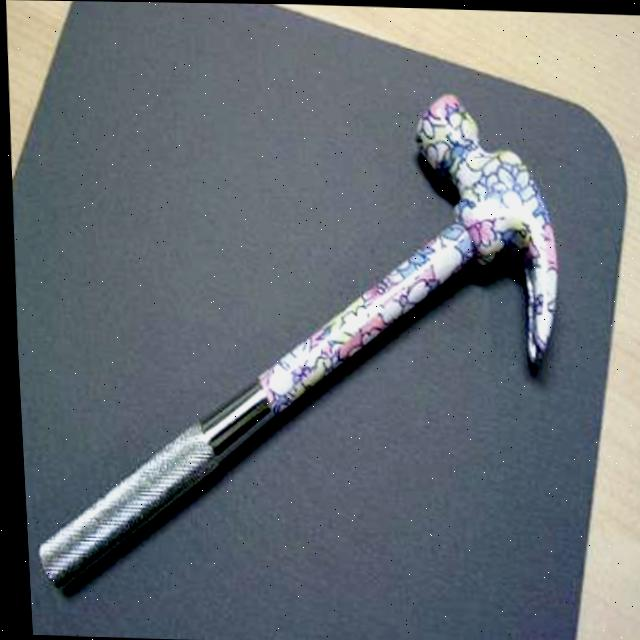hammer: (9, 73, 591, 605)
